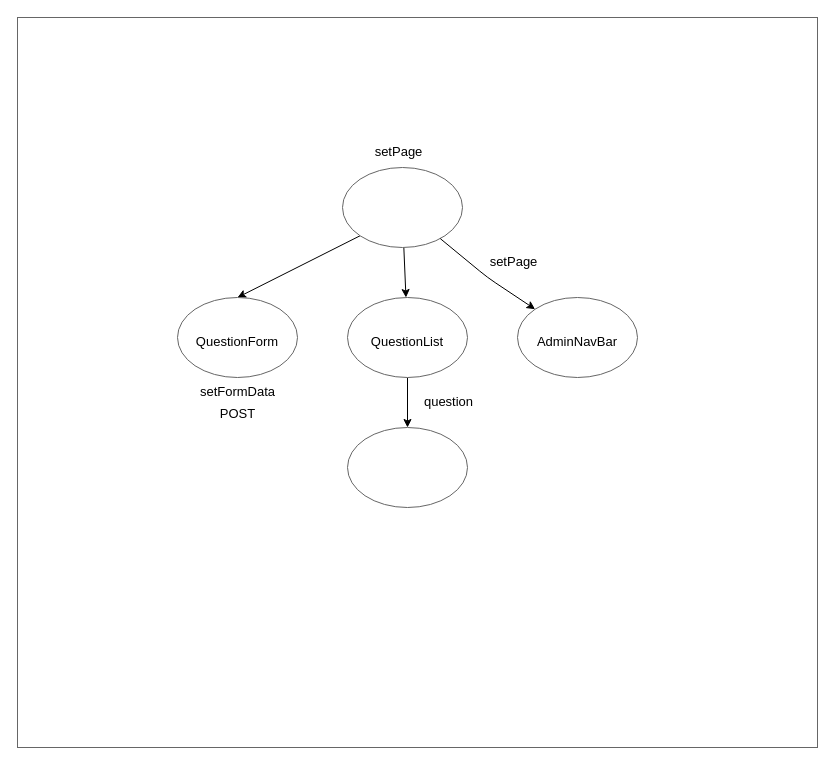
Some shapes in this 835 by 765 pixel diagram are drawn without their labels. The shapes that lost their labels are listed below. From the top down, each one's box as (x1, y1, x2, y2) in pixels, then its label:
(342, 166, 462, 248): App
(346, 426, 468, 508): QuestionItem
